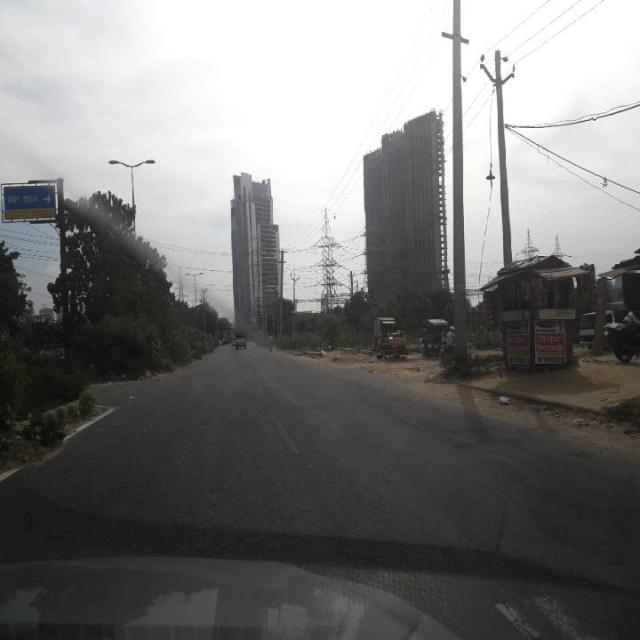crack: (24, 418, 468, 554)
